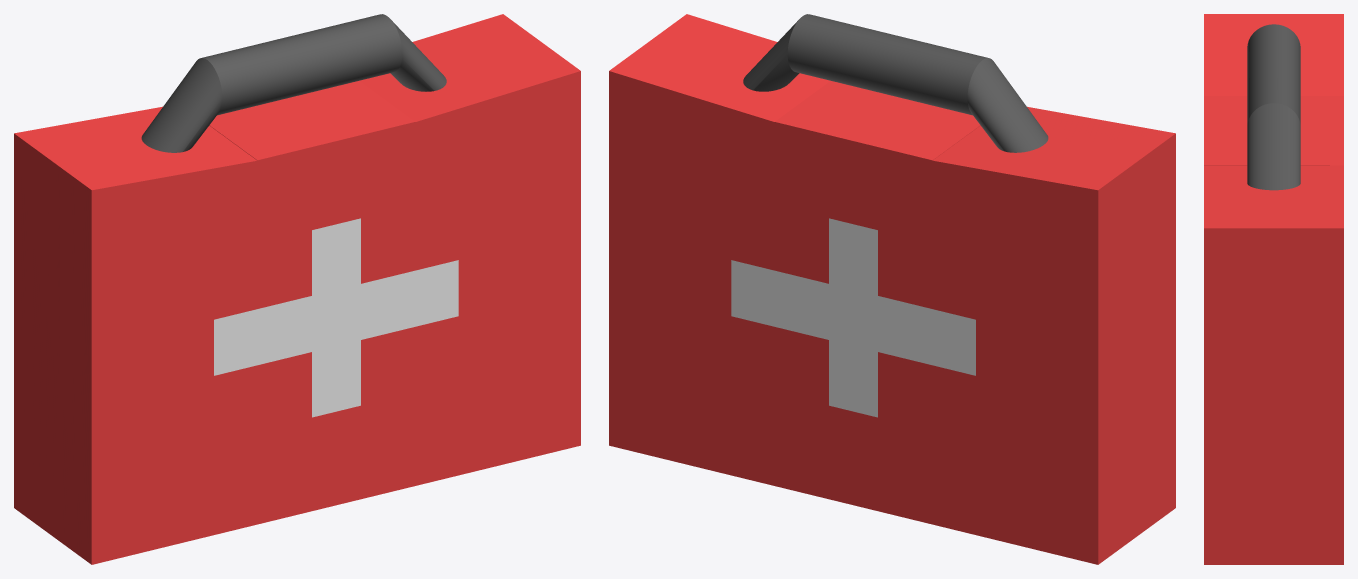
The model's file is medikit.fbx.
The picture shows the model from 3 angles, left to right: view 1: azimuth 30°, elevation 25°; view 2: azimuth 150°, elevation 25°; view 3: azimuth 270°, elevation 25°; orthographic projection. The views are drawn at different scales.
Parts seen in each view (by area): view 1: Cube, Cylinder; view 2: Cube, Cylinder; view 3: Cube, Cylinder.
Part boxes in pixels (x1,y1,x2,y2): Cube: (14, 14, 580, 564); Cylinder: (141, 14, 446, 152); Cube: (609, 14, 1175, 564); Cylinder: (743, 14, 1048, 152); Cube: (1204, 14, 1343, 564); Cylinder: (1247, 24, 1300, 190).
Bounding box in the file's own units: 58.45 × 50.08 × 16.1.
